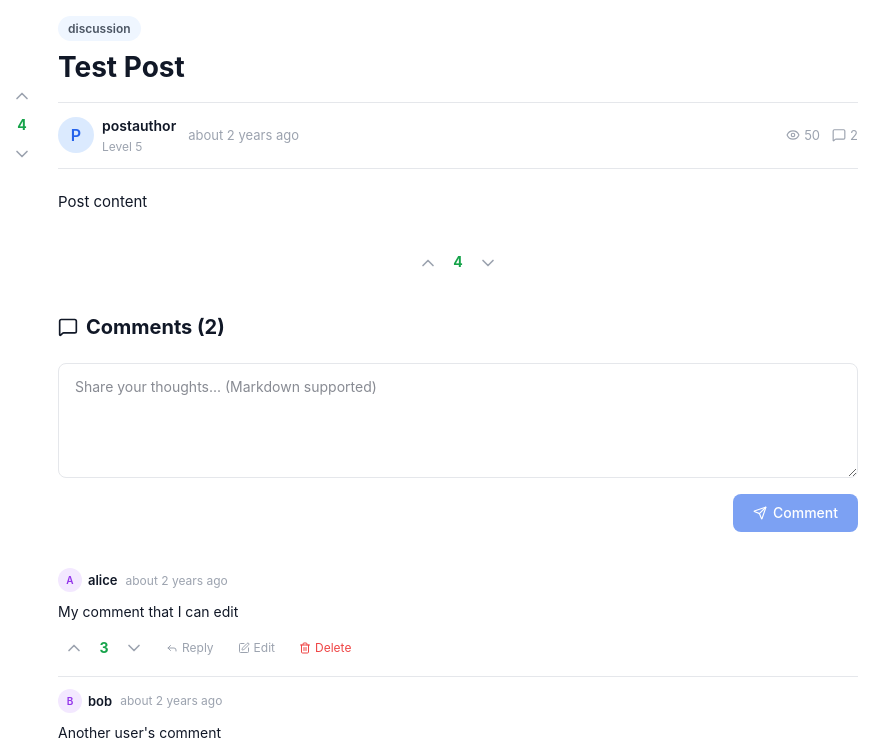
Test: PostDetailPage - Comment Editing › Edit mode › shows textarea with comment content when Edit is clicked
The width and height of the screenshot is (875, 753).
Click the button "Edit". click: (256, 648)
box: [230,634,283,662]
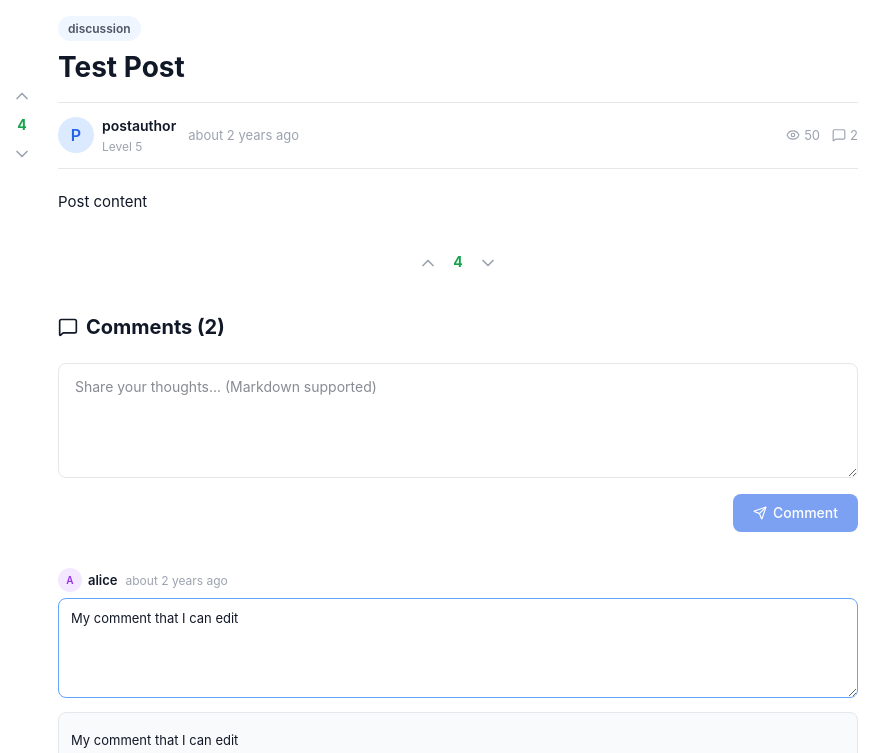
Check: the text box showing "My comment that I can edit" is shown, box [58,598,858,698]
